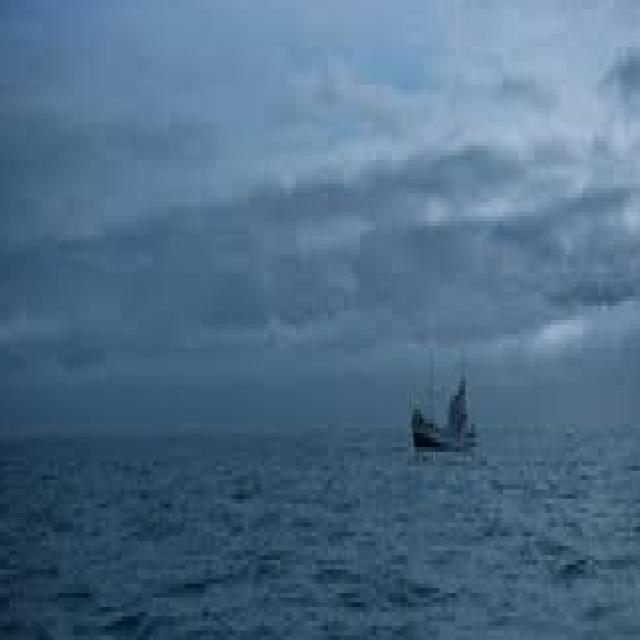fishing boat: (405, 356, 480, 448)
